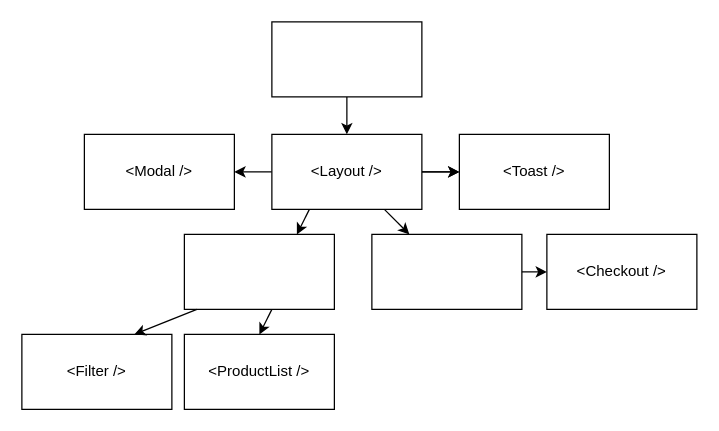
This 719x431 diagram has some shape labels left out. Here are the shapes that lost their labels. From the top down, the centre of each, then its label:
point (346, 59): <Main />
point (258, 271): <Shop />
point (446, 271): <Cart />
